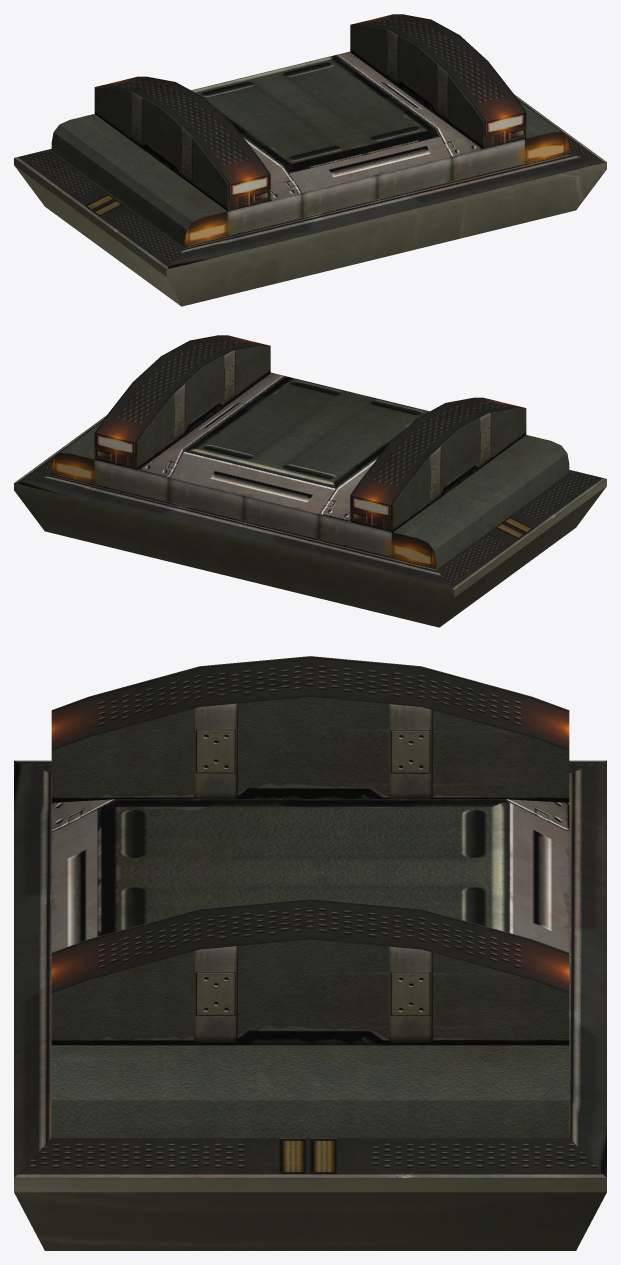
The model's file is sup.FBX.
3 views of the same model, one above another, from view 1: azimuth 30°, elevation 25°; view 2: azimuth 150°, elevation 25°; view 3: azimuth 270°, elevation 25° (orthographic). The views are drawn at different scales.
Visible parts, largest first — view 1: Sup; view 2: Sup; view 3: Sup.
Part boxes in pixels (x1,y1,x2,y2): Sup: (14, 14, 606, 306); Sup: (14, 335, 606, 627); Sup: (14, 656, 606, 1250).
Bounding box in the file's own units: 169 × 50.14 × 101.
1 material, 1 textured.
